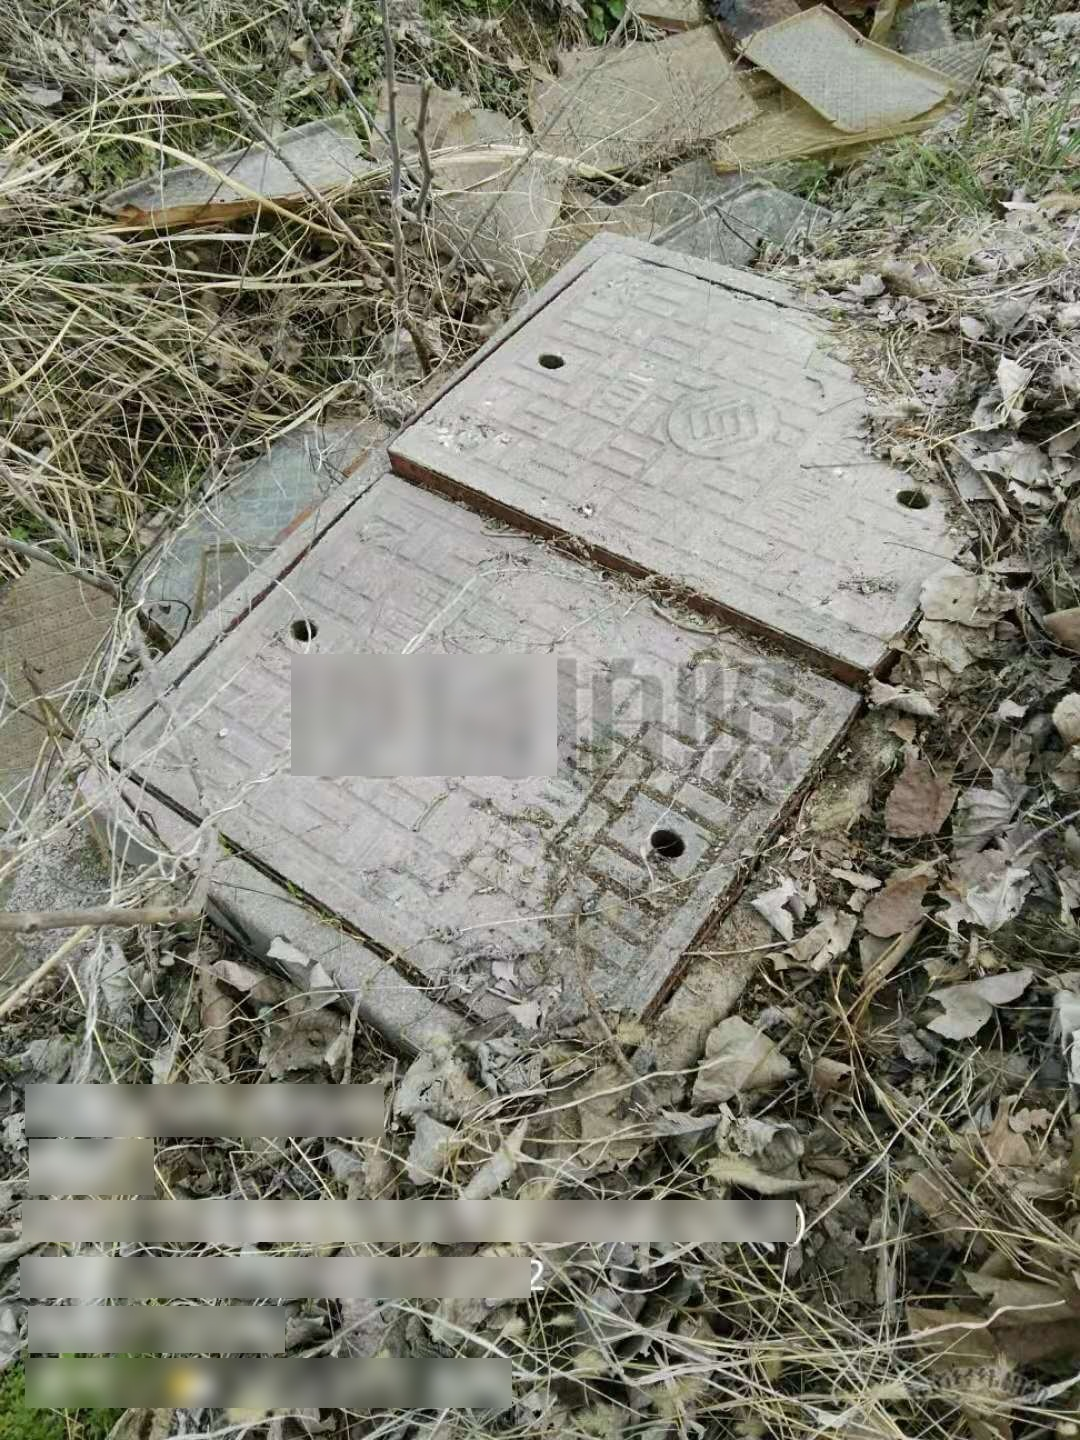uncovered: (68, 225, 1046, 1102)
